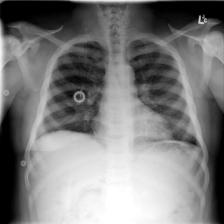normal: (25, 35, 207, 168)
